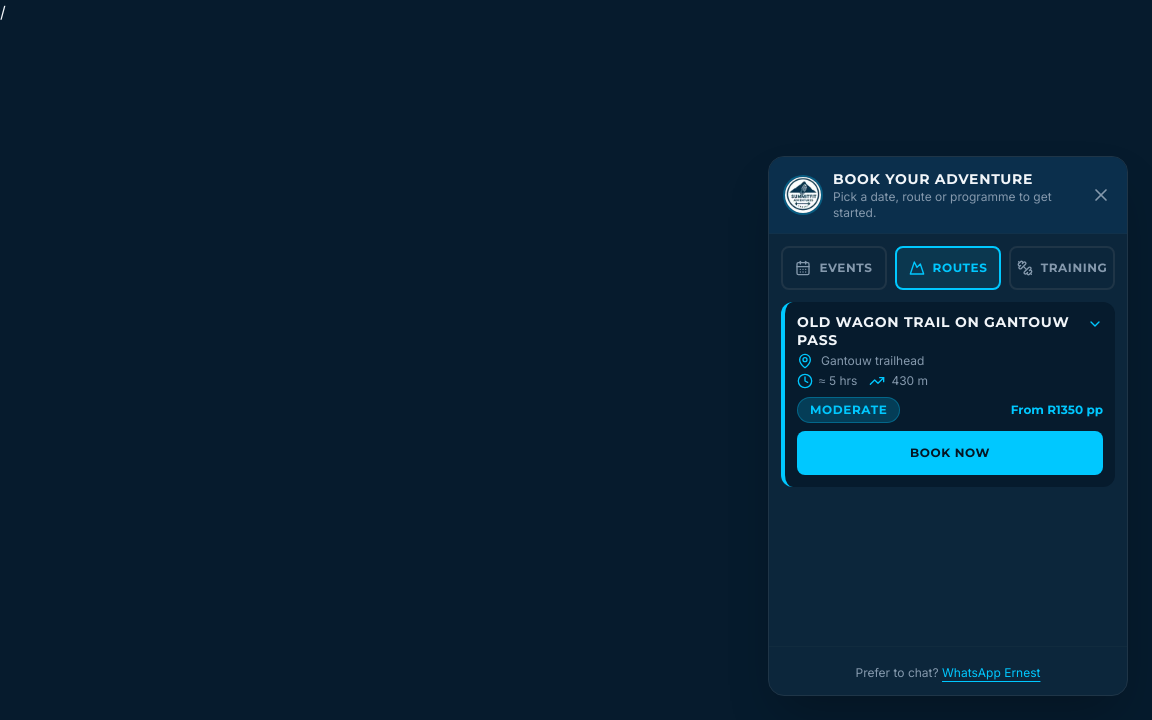
it: quick booking managed routes › matches the managed slug before a same-name price and books the live pricing id
The width and height of the screenshot is (1152, 720).
Expected: the text "From R1350 pp" is shown, x1=1011 y1=402 x2=1103 y2=418
Click the button "Book Now" at point(950, 453), box x1=797 y1=431 x2=1103 y2=475
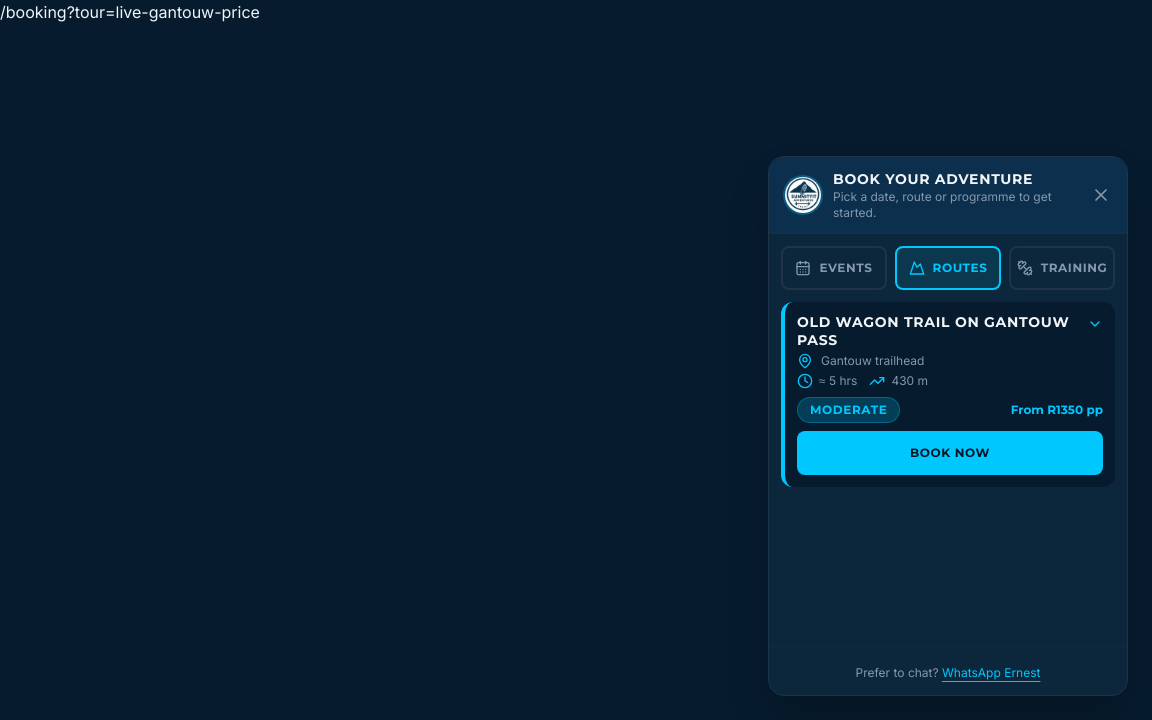
Result: the text named "Current location" reads "/booking?tour=live-gantouw-price" at x1=0 y1=2 x2=260 y2=22
